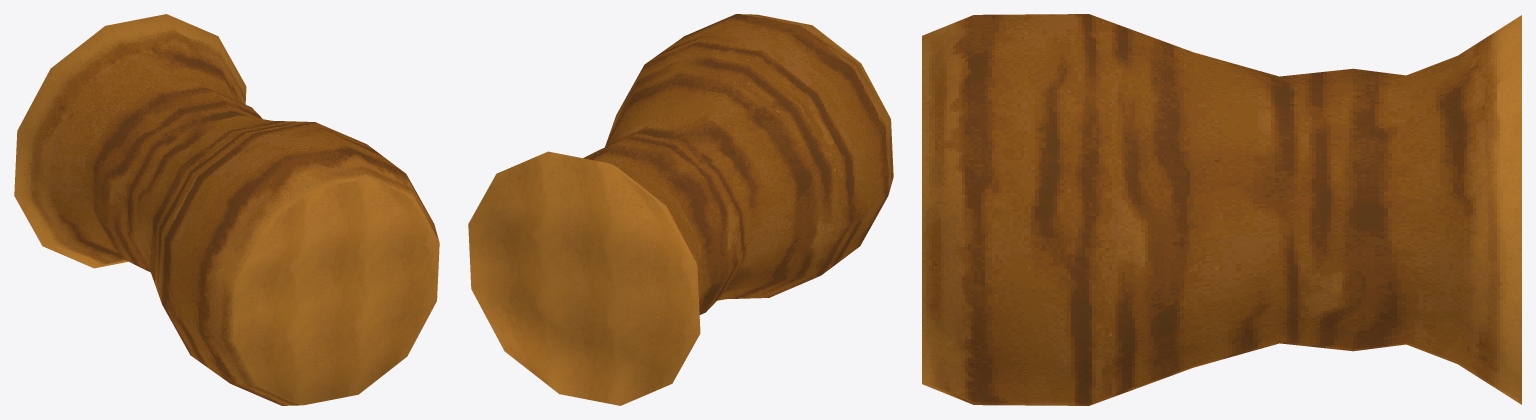
File: SM_AP_Pillar_13m_1.glb
3 views of the same model, side by side, from view 1: azimuth 30°, elevation 25°; view 2: azimuth 150°, elevation 25°; view 3: azimuth 270°, elevation 25° (orthographic). The views are drawn at different scales.
Visible parts, largest first — view 1: SM_AP_Pillar_13m_1; view 2: SM_AP_Pillar_13m_1; view 3: SM_AP_Pillar_13m_1.
Part boxes in pixels (x1,y1,x2,y2): SM_AP_Pillar_13m_1: (14, 14, 439, 405); SM_AP_Pillar_13m_1: (468, 14, 893, 405); SM_AP_Pillar_13m_1: (922, 14, 1521, 405).
Size of the model in its own units: 13.65 by 13.65 by 20.85.
Materials: 1 (1 with a texture image).
